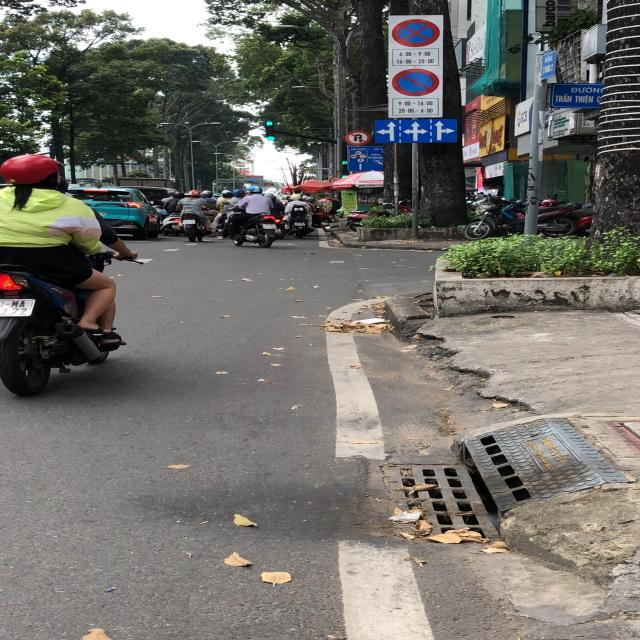Bien bao cam do xe: (389, 66, 442, 99)
Bien bao cam dung xe va do xe: (384, 16, 442, 48)
Bien bao cam quay dau xe: (345, 128, 371, 145)
